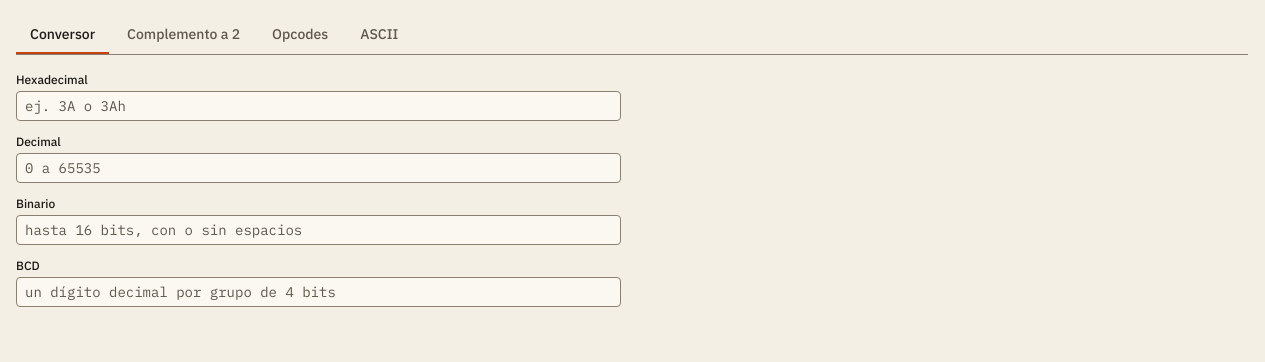
Complemento a 2 › fuera de rango muestra el error
Click the tab "Complemento a 2": (184, 35) x1=113 y1=16 x2=254 y2=54
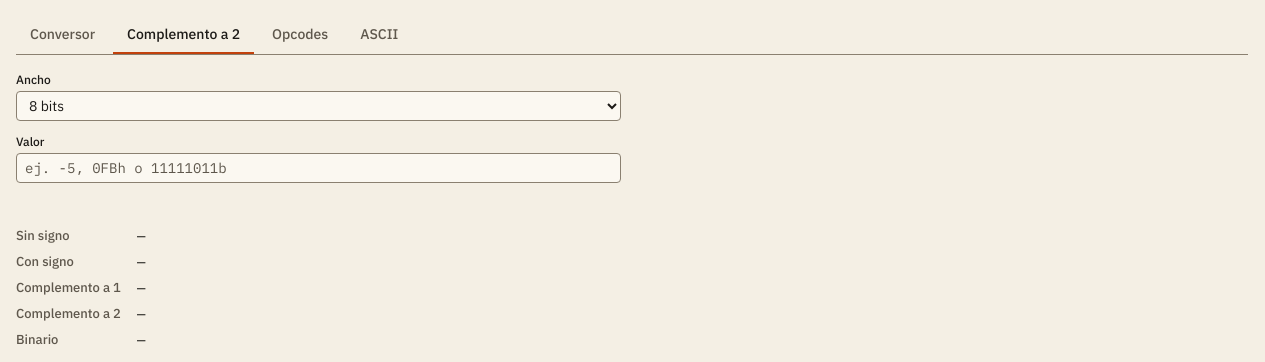
In the field labelled "Valor": (318, 168) x1=16 y1=153 x2=621 y2=183, type "-129"
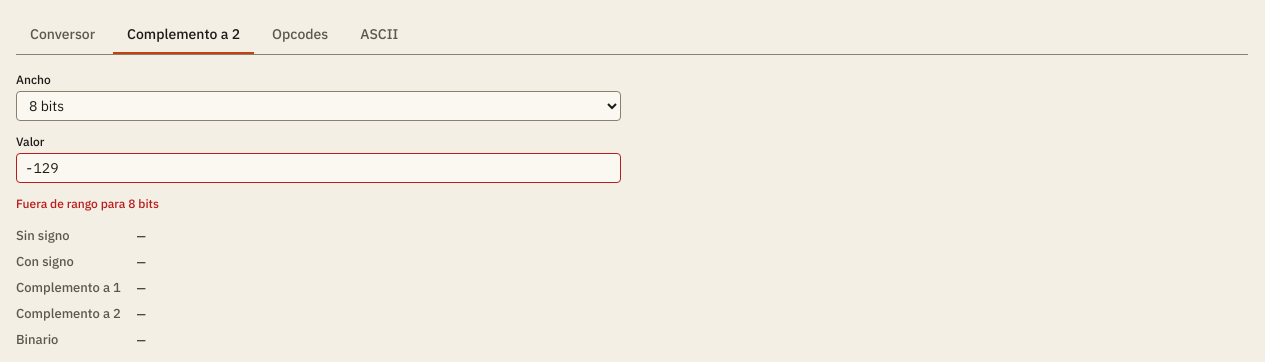
expect the message reads "Fuera de rango para 8 bits": met, box x1=16 y1=196 x2=159 y2=211
